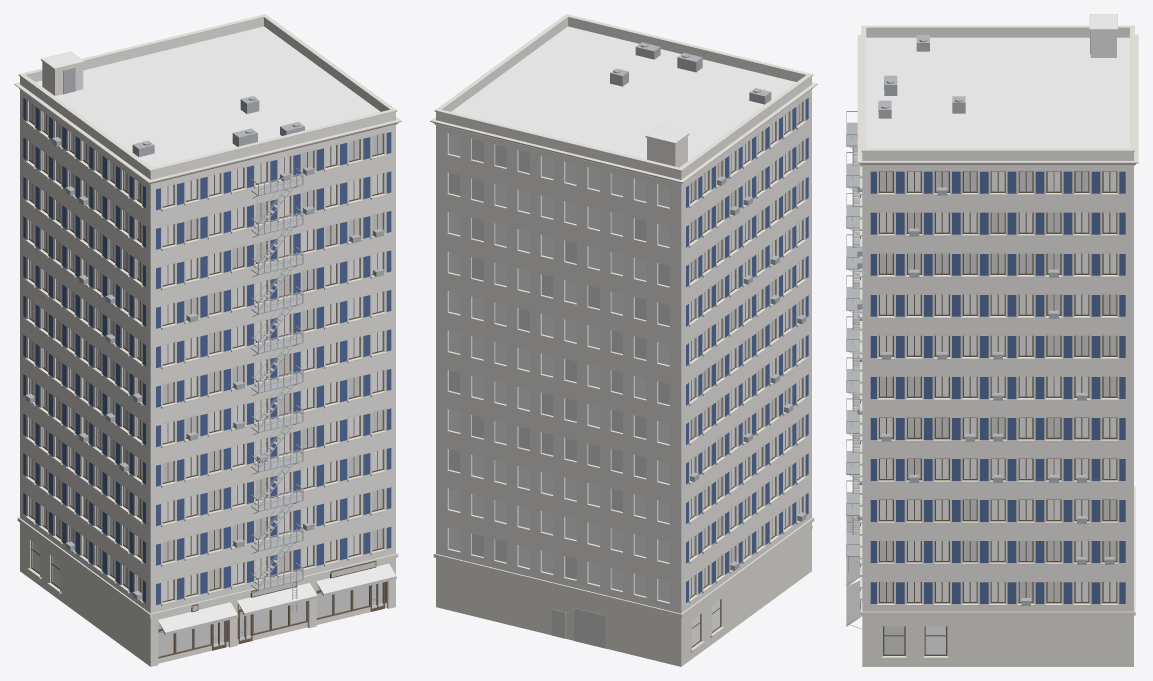
Rendered from midtown_w78f11.glb.
3 renders of one model, left to right at view 1: azimuth 30°, elevation 25°; view 2: azimuth 150°, elevation 25°; view 3: azimuth 270°, elevation 25°, orthographic. The views are drawn at different scales.
Parts seen in each view (by area): view 1: midtown_w78f11_Walls, midtown_w78f11_Trim, midtown_w78f11_Accent, midtown_w78f11_Roof, midtown_w78f11_Glass, midtown_w78f11_Frames, midtown_w78f11_WindowsLit, midtown_w78f11_Details, midtown_w78f11_Awning; view 2: midtown_w78f11_Walls, midtown_w78f11_Trim, midtown_w78f11_Glass, midtown_w78f11_Roof, midtown_w78f11_WindowsLit, midtown_w78f11_Accent, midtown_w78f11_Frames, midtown_w78f11_Details, midtown_w78f11_Doors; view 3: midtown_w78f11_Walls, midtown_w78f11_Trim, midtown_w78f11_Roof, midtown_w78f11_Accent, midtown_w78f11_Glass, midtown_w78f11_Frames, midtown_w78f11_WindowsLit, midtown_w78f11_Details, midtown_w78f11_Awning.
Part boxes in pixels (box(x1,y1,x2,y2)): midtown_w78f11_Walls: box(20, 18, 395, 613); midtown_w78f11_Trim: box(14, 14, 401, 666); midtown_w78f11_Accent: box(23, 98, 391, 604); midtown_w78f11_Roof: box(35, 26, 380, 167); midtown_w78f11_Glass: box(30, 112, 382, 601); midtown_w78f11_Frames: box(29, 102, 386, 658); midtown_w78f11_WindowsLit: box(30, 102, 382, 656); midtown_w78f11_Details: box(25, 67, 384, 639); midtown_w78f11_Awning: box(158, 563, 396, 635); midtown_w78f11_Walls: box(436, 18, 811, 613); midtown_w78f11_Trim: box(430, 14, 817, 666); midtown_w78f11_Glass: box(449, 112, 801, 646); midtown_w78f11_Roof: box(451, 26, 796, 167); midtown_w78f11_WindowsLit: box(449, 102, 801, 579); midtown_w78f11_Accent: box(686, 98, 808, 602); midtown_w78f11_Frames: box(690, 102, 802, 647); midtown_w78f11_Details: box(610, 42, 806, 570); midtown_w78f11_Doors: box(551, 608, 605, 648); midtown_w78f11_Walls: box(862, 29, 1133, 611); midtown_w78f11_Trim: box(857, 14, 1138, 666); midtown_w78f11_Roof: box(866, 14, 1129, 148); midtown_w78f11_Accent: box(870, 171, 1125, 603); midtown_w78f11_Glass: box(880, 171, 1116, 654); midtown_w78f11_Frames: box(860, 171, 1117, 655); midtown_w78f11_WindowsLit: box(880, 171, 1116, 654); midtown_w78f11_Details: box(846, 31, 1114, 628); midtown_w78f11_Awning: box(846, 516, 861, 626).
Size of the model in its own units: 80.6 by 157 by 77.4.
